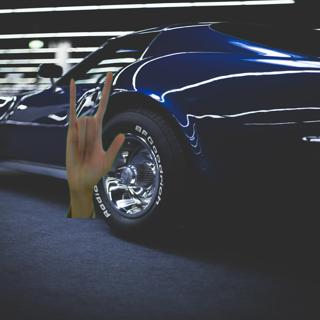ILY: (60, 69, 128, 196)
